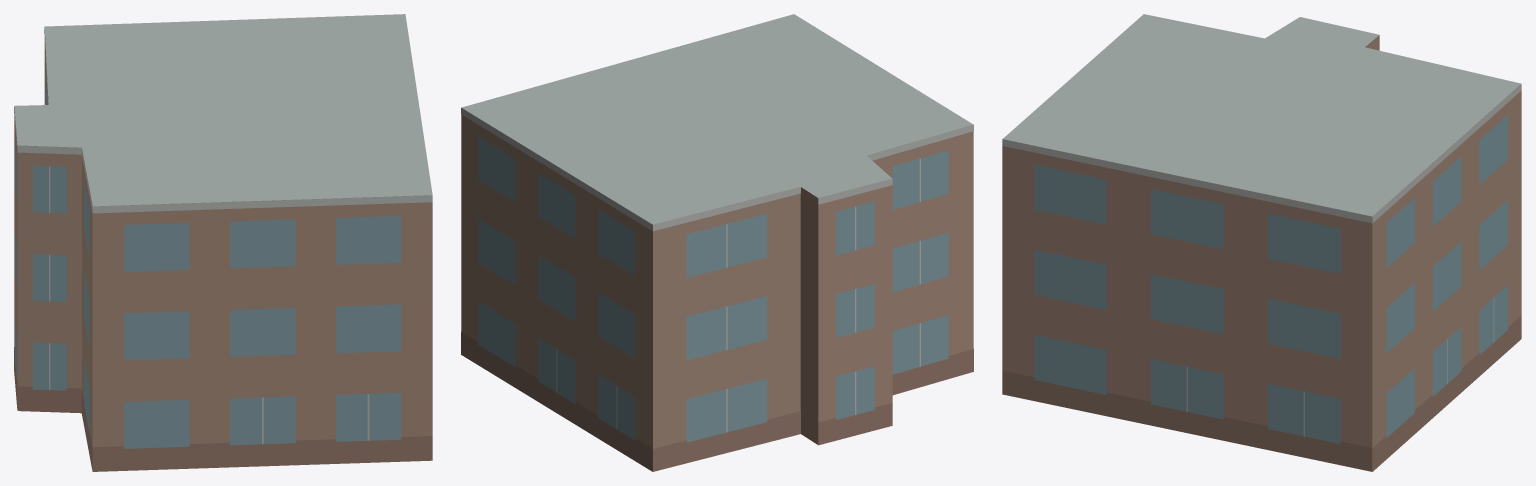
Rendered from survey-upis-32485506.glb.
3 renders of one model, left to right at view 1: azimuth 30°, elevation 25°; view 2: azimuth 150°, elevation 25°; view 3: azimuth 270°, elevation 25°, orthographic. The views are drawn at different scales.
Parts seen in each view (by area): view 1: survey-upis-32485506.tmp; view 2: survey-upis-32485506.tmp; view 3: survey-upis-32485506.tmp.
Boxes of the visible parts, <box> form: survey-upis-32485506.tmp: <box>14,14,432,471</box>; survey-upis-32485506.tmp: <box>461,14,973,471</box>; survey-upis-32485506.tmp: <box>1002,14,1521,471</box>.
Size of the model in its own units: 15.58 by 9.15 by 16.87.
